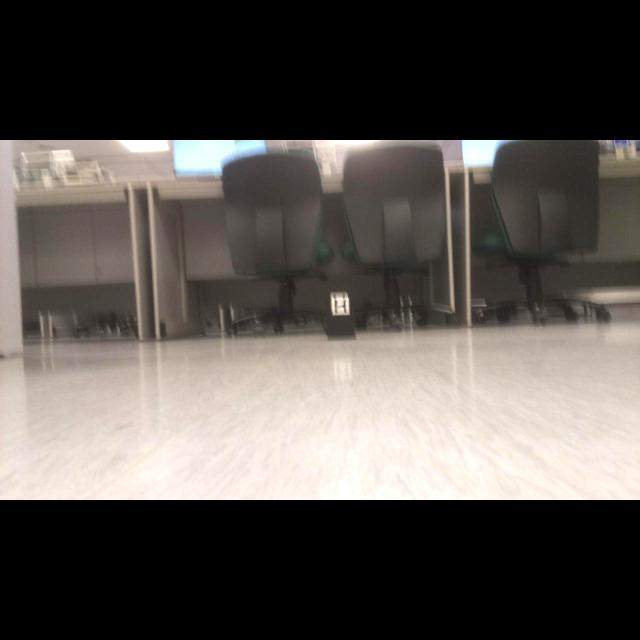H: (335, 301, 347, 315)
